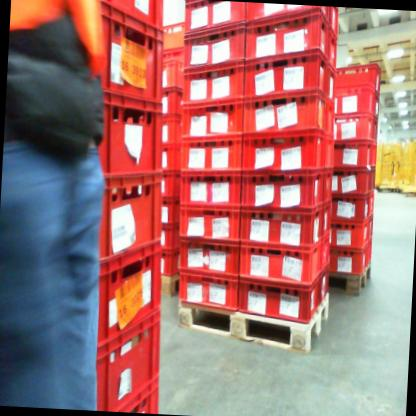pallet: (173, 280, 335, 353), (327, 256, 377, 303), (152, 270, 187, 306)
small_load_carrier: (84, 242, 163, 359), (86, 303, 164, 412), (87, 0, 166, 107), (91, 164, 165, 272), (91, 86, 161, 184), (240, 42, 329, 106), (240, 4, 330, 66), (240, 85, 327, 146), (238, 117, 327, 175), (240, 196, 322, 256), (237, 163, 326, 218), (237, 232, 321, 287), (238, 271, 321, 321), (182, 17, 247, 73), (177, 128, 243, 178), (178, 93, 244, 143), (180, 57, 245, 105), (91, 0, 168, 38), (176, 267, 241, 311), (175, 169, 244, 209), (178, 238, 243, 279), (246, 4, 329, 36), (181, 1, 245, 42), (179, 206, 241, 243), (331, 55, 383, 99), (332, 107, 377, 145), (322, 243, 368, 278), (329, 160, 372, 197), (337, 76, 376, 116), (328, 134, 372, 169), (119, 378, 163, 413), (325, 217, 370, 251), (330, 191, 371, 228), (161, 55, 189, 91), (158, 217, 186, 251), (155, 245, 183, 279), (158, 166, 183, 200), (161, 84, 182, 120), (159, 142, 183, 172), (160, 194, 180, 229), (326, 35, 340, 80), (320, 231, 332, 278), (318, 264, 332, 304), (326, 64, 340, 104), (161, 117, 182, 142), (328, 9, 343, 43), (322, 167, 334, 209), (320, 204, 335, 235), (322, 137, 335, 171), (324, 100, 335, 138), (366, 212, 375, 245), (367, 139, 378, 164), (366, 192, 376, 216), (369, 164, 377, 192), (374, 95, 381, 127), (367, 239, 375, 263)
